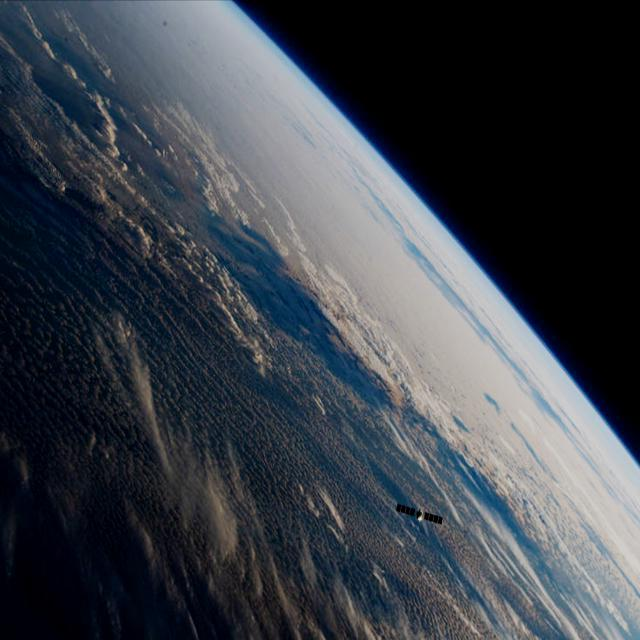satellite: (377, 496, 447, 536)
